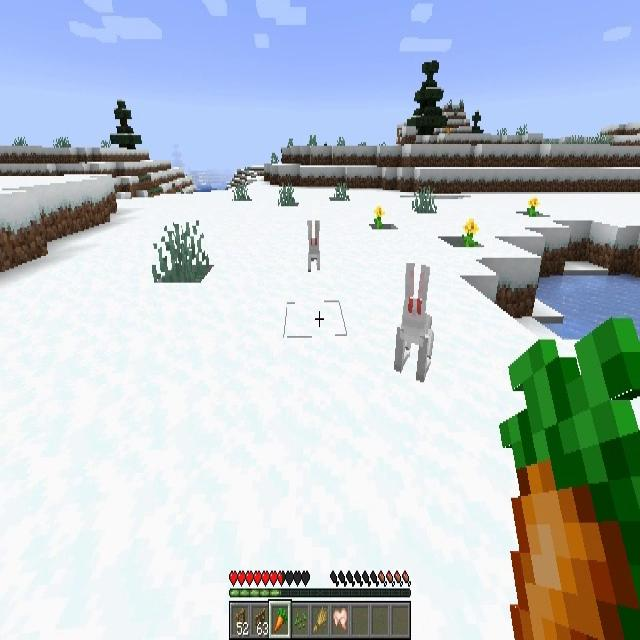flower: (462, 220, 478, 244), (372, 205, 385, 231), (527, 198, 539, 217)
rabbit: (394, 262, 434, 383), (308, 219, 320, 273)
